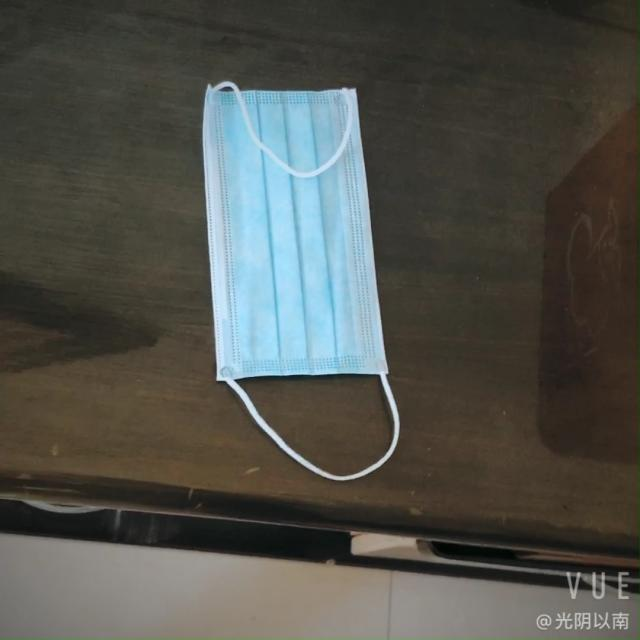non-organic waste: (186, 71, 388, 386)
